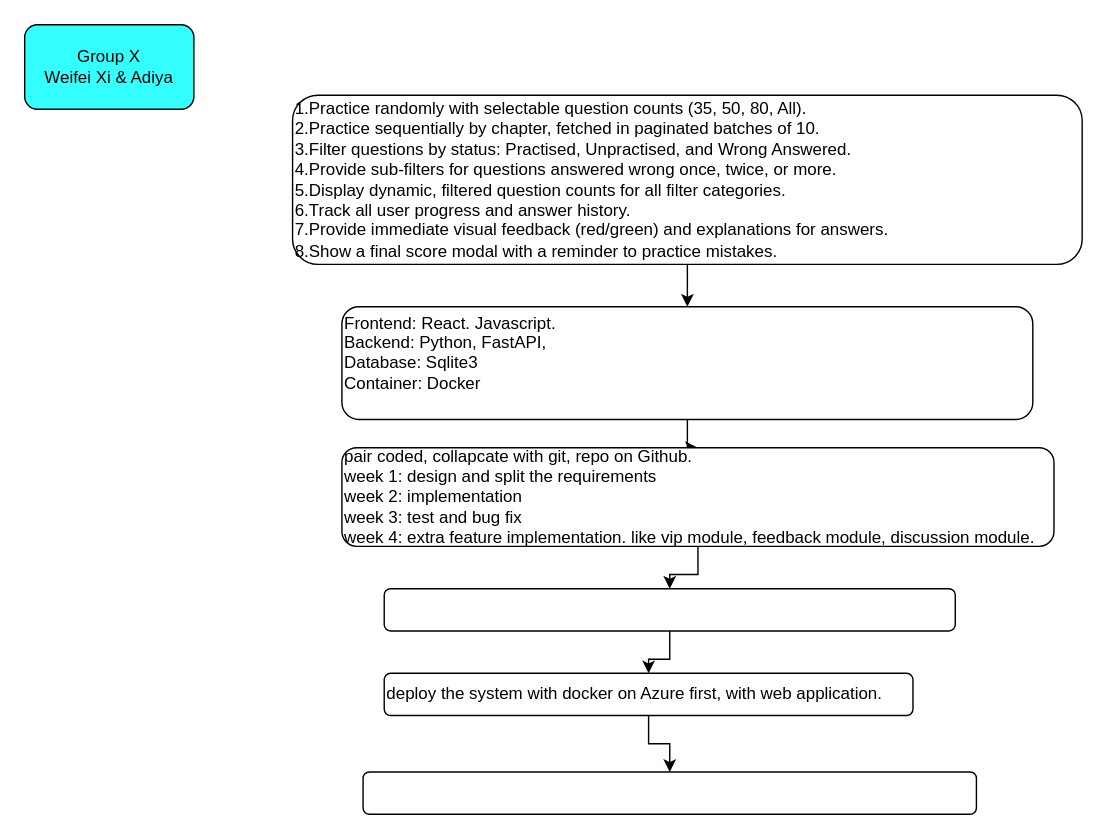
The diagram is 1107 pixels wide and 839 high, and some of its shapes have lost their labels. The centre of each missing label's shape, as x and y in pixels:
bug and new feature in feedback will be updated as part of daily maintenance: pixel 669 792
we will use the system by ourselves and practice to pass the theory test: pixel 669 609
